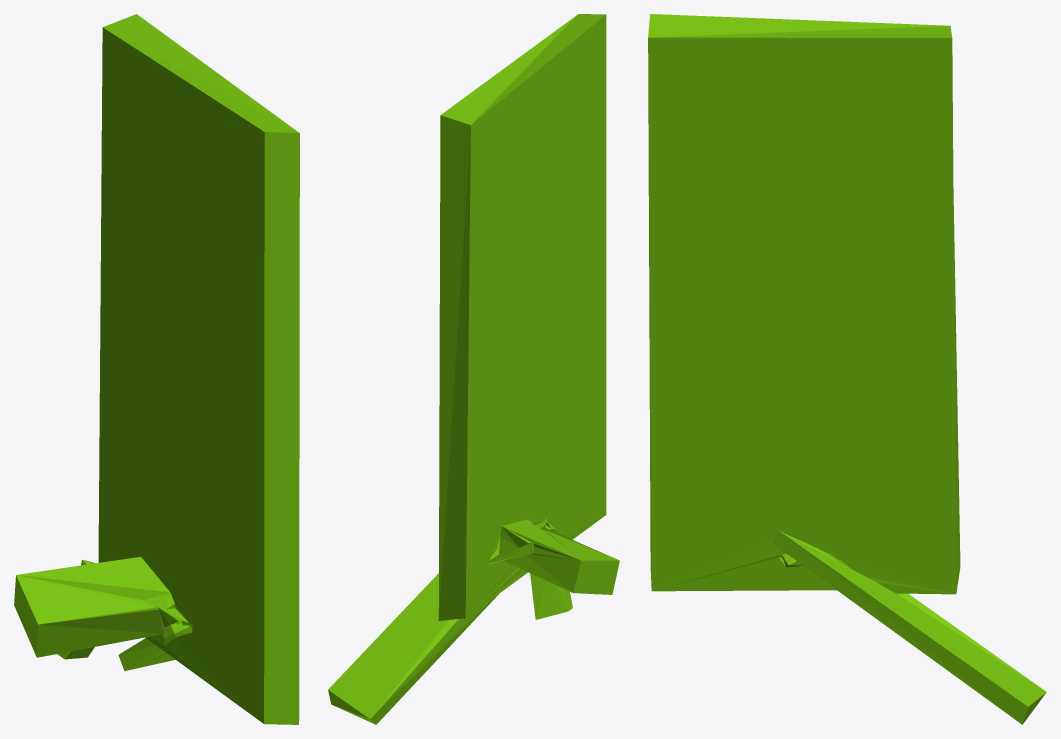
The picture shows the model from 3 angles, left to right: view 1: azimuth 30°, elevation 25°; view 2: azimuth 150°, elevation 25°; view 3: azimuth 270°, elevation 25°; orthographic projection. The views are drawn at different scales.
Parts seen in each view (by area): view 1: 467_Cube.1893; view 2: 467_Cube.1893; view 3: 467_Cube.1893.
Boxes of the visible parts, bbox=[...] form: 467_Cube.1893: bbox=[14, 14, 299, 724]; 467_Cube.1893: bbox=[328, 14, 619, 724]; 467_Cube.1893: bbox=[648, 14, 1046, 724].
Size of the model in its own units: 5.24 by 14.27 by 7.84.
